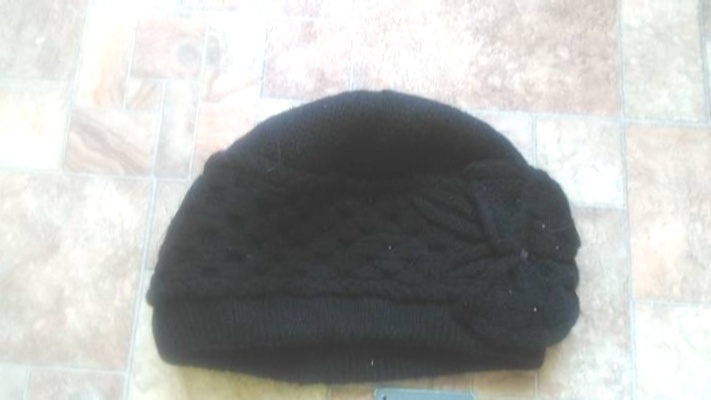Hat: (109, 54, 594, 400)
